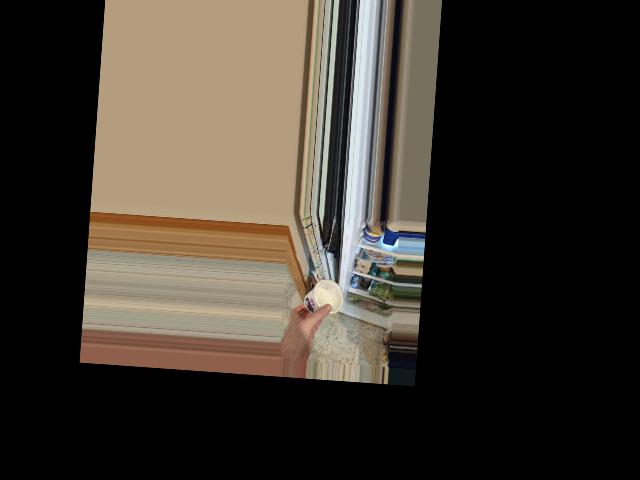cotage: (301, 278, 340, 317)
